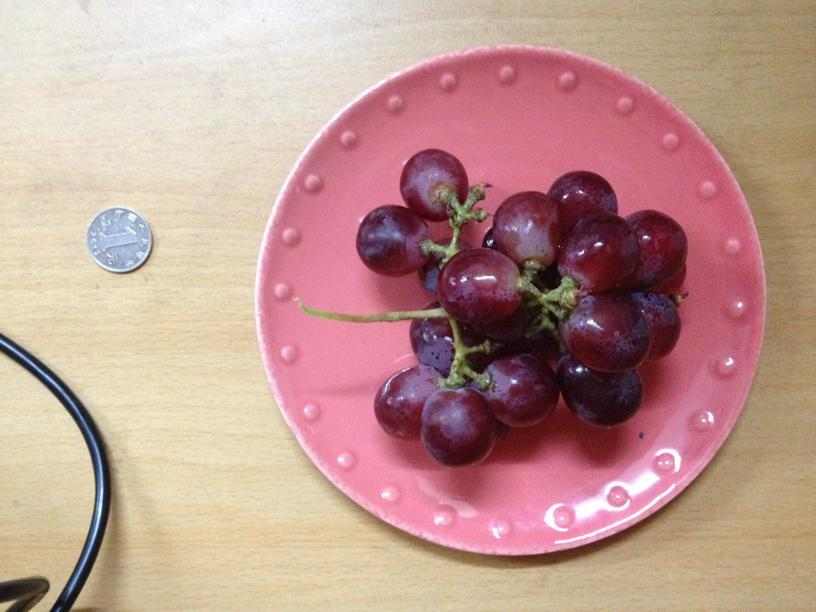coin: (88, 206, 152, 273)
grape: (350, 143, 689, 468)
